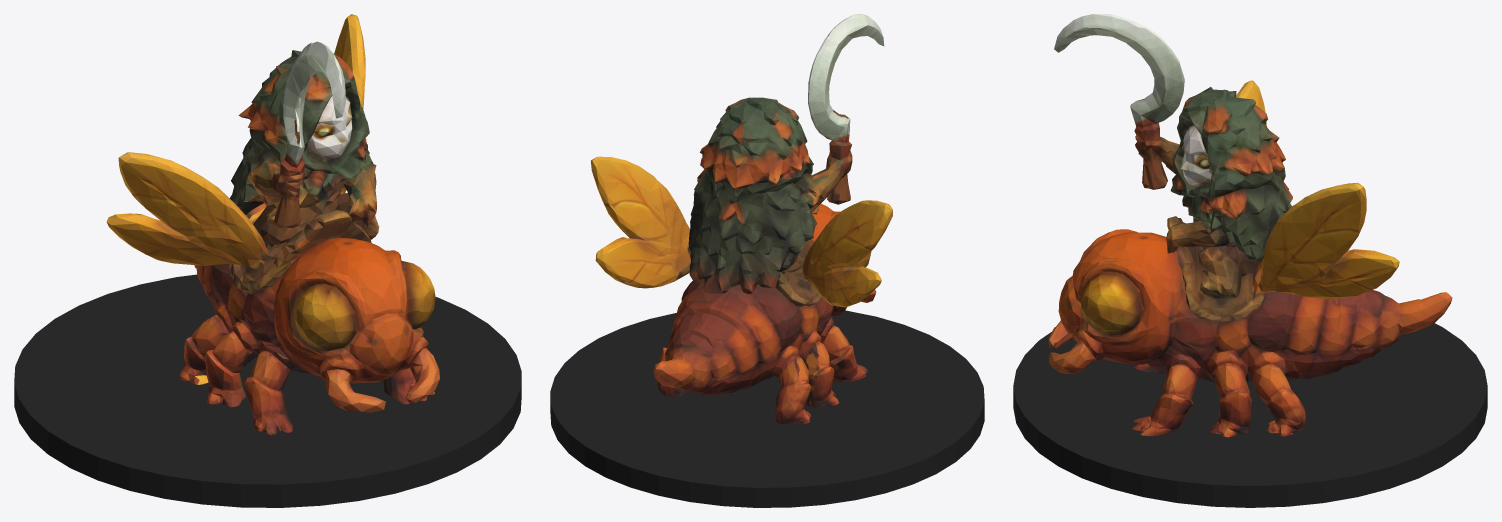
File: syl-revenant-seeker.glb
3 renders of one model, left to right at view 1: azimuth 30°, elevation 25°; view 2: azimuth 150°, elevation 25°; view 3: azimuth 270°, elevation 25°, orthographic. The views are drawn at different scales.
Visible parts, largest first — view 1: figure, base; view 2: figure, base; view 3: figure, base.
Boxes of the visible parts, left/top/right/bottom form: figure: left=106, top=14, right=439, bottom=435; base: left=14, top=274, right=521, bottom=507; figure: left=591, top=14, right=892, bottom=424; base: left=550, top=310, right=984, bottom=507; figure: left=1048, top=14, right=1452, bottom=437; base: left=1013, top=323, right=1487, bottom=507.
Bounding box in the file's own units: 2.36 × 2.12 × 2.36.
Materials: 2 (1 with a texture image).
